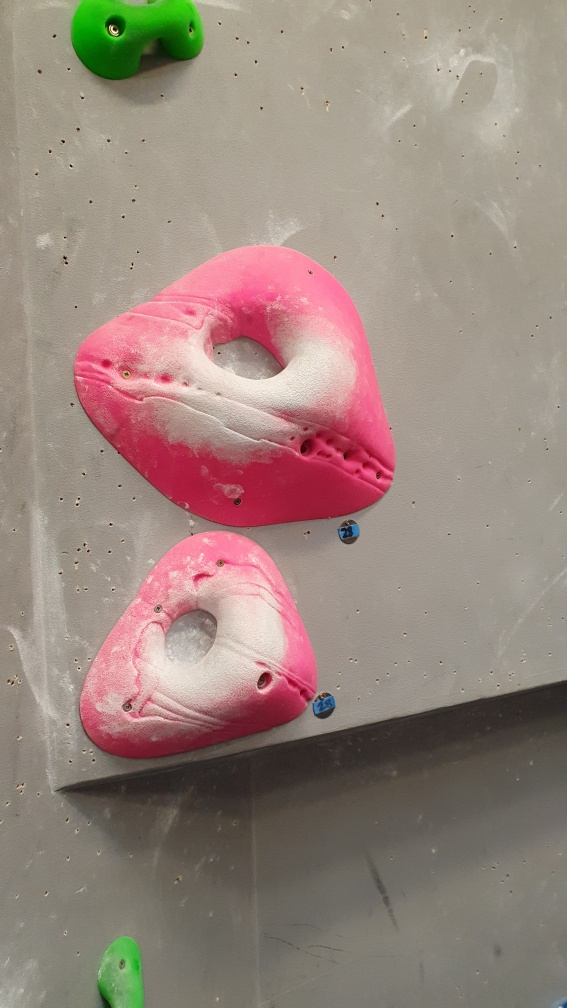Hand Start: (314, 693, 336, 722), (339, 518, 359, 544)
Pocket: (73, 244, 399, 530), (80, 531, 321, 762)
